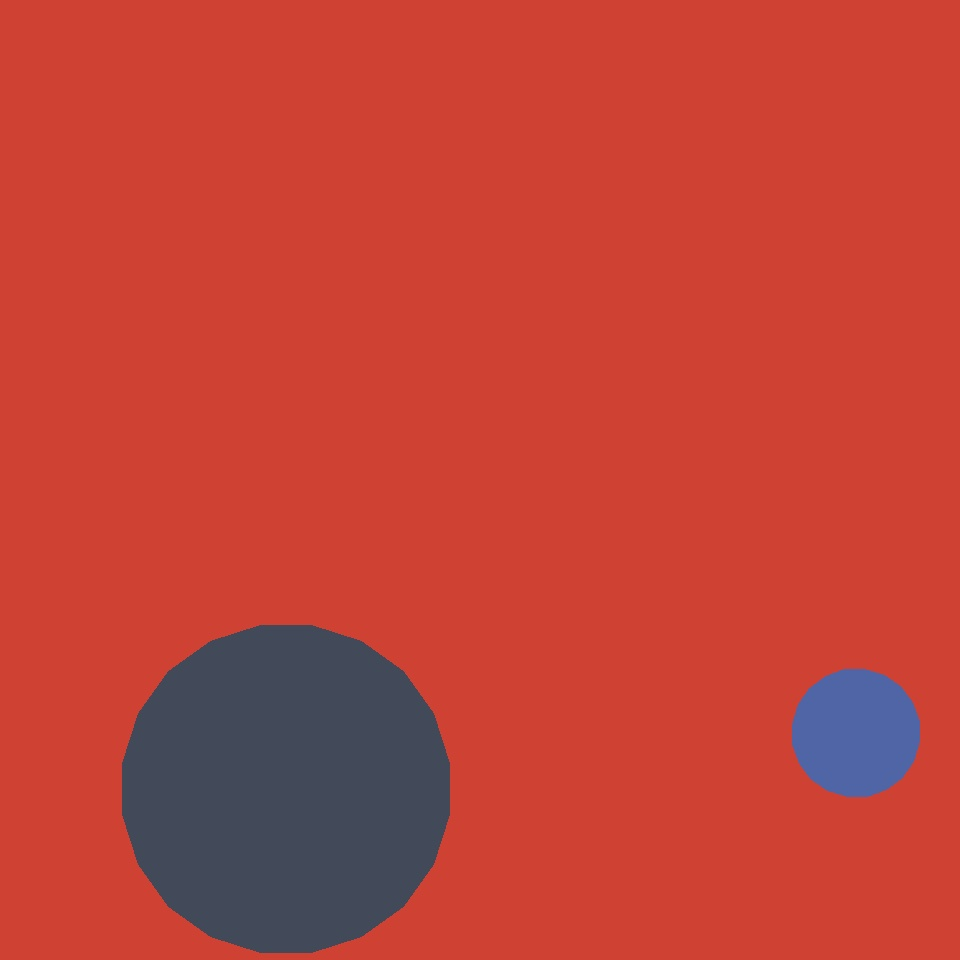circle: (620, 346, 866, 588), (220, 228, 352, 359)
square: (366, 101, 575, 310), (583, 715, 788, 921), (57, 638, 247, 828), (187, 420, 331, 564)
triangle: (122, 626, 450, 952), (792, 670, 920, 796)
